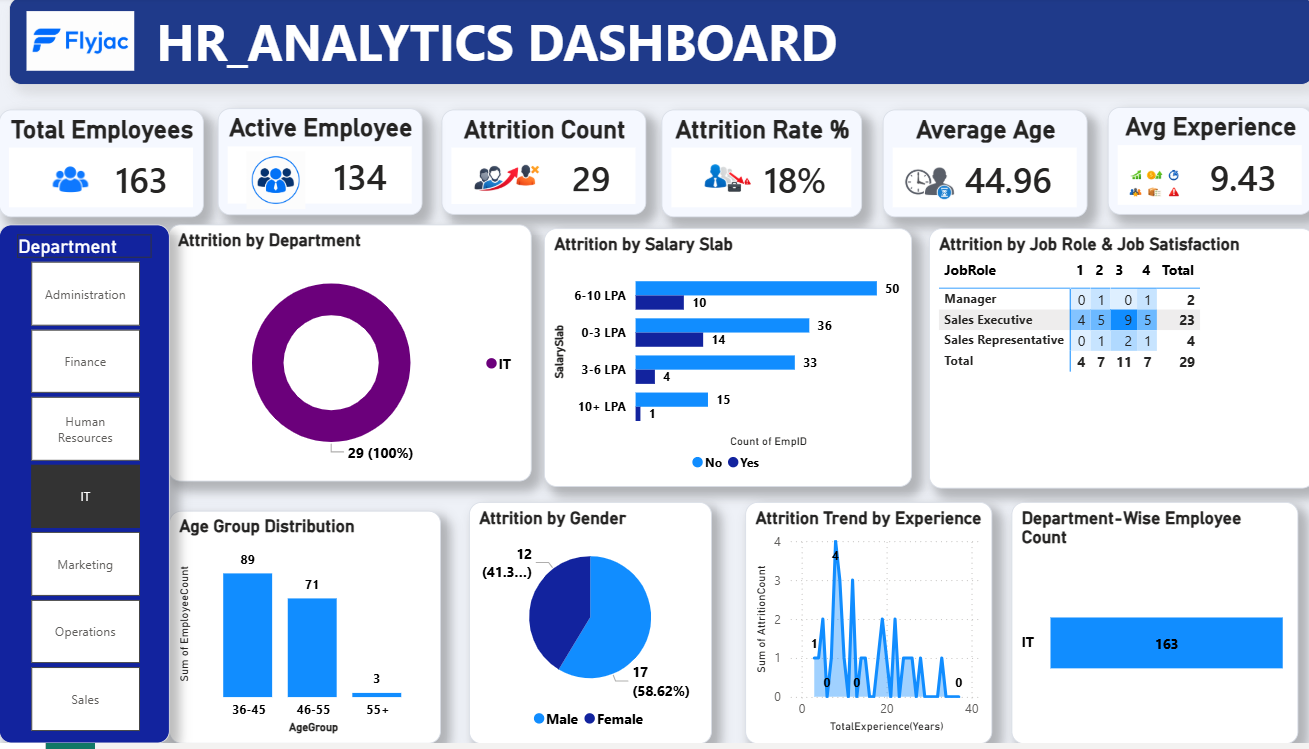

What the dashboard file says about the page in this screenshot:
{"tool":"powerbi","page":{"name":"Page 1","canvas":[1280,720],"ordinal":0},"visuals":[{"type":"textbox","box":[10,0,1259,85],"z":0},{"type":"image","box":[26.1,0,104.3,85.1],"z":1000},{"type":"cardVisual","title":"Total Employees","fields":{"Data":["CountNonNull(HR_Analytics.EmpID)"]},"box":[0,108.4,197.6,104.3],"z":2000},{"type":"cardVisual","title":"Attrition Count","fields":{"Data":["Sum(HR_Analytics.AttritionCount)"]},"box":[426.8,108.4,197.6,101.5],"z":3000},{"type":"cardVisual","title":"Attrition Rate %","fields":{"Data":["HR_Analytics.Attrition Rate %"]},"box":[639.5,108.4,193.5,104.3],"z":4000},{"type":"cardVisual","title":"Average Age","fields":{"Data":["Avg(HR_Analytics.Age)"]},"box":[853.5,108.4,197.6,104.3],"z":5000},{"type":"cardVisual","title":"Avg Experience","fields":{"Data":["Avg(HR_Analytics.YearsatCompany)"]},"box":[1070.3,105.7,197.6,104.3],"z":6000},{"type":"cardVisual","title":"Active Employee","fields":{"Data":["CountNonNull(HR_Analytics.EmployeeCount)"]},"box":[211.3,107,197.6,102.9],"z":7000},{"type":"image","box":[0,135.8,89.2,87.8],"z":8000},{"type":"image","box":[220.9,145.5,56.3,64.5],"z":9000},{"type":"image","box":[441.9,135.8,72.7,76.8],"z":10000},{"type":"image","box":[657.3,138.6,63.1,71.4],"z":11000},{"type":"image","box":[864.5,140,65.9,79.6],"z":12000},{"type":"image","box":[1082.7,145.5,65.9,68.6],"z":13000},{"type":"donutChart","title":"Attrition by Department","fields":{"Category":["HR_Analytics.Department"],"Y":["Sum(HR_Analytics.AttritionCount)"]},"box":[163.3,219.6,351.3,248.4],"z":14000},{"type":"clusteredBarChart","title":"Attrition by Salary Slab","fields":{"Category":["HR_Analytics.SalarySlab"],"Y":["CountNonNull(HR_Analytics.EmpID)"],"Series":["HR_Analytics.Attrition"]},"box":[525.6,223.7,355.4,249.7],"z":15000},{"type":"pivotTable","title":"Attrition by Job Role & Job Satisfaction","fields":{"Rows":["HR_Analytics.JobRole"],"Values":["Sum(HR_Analytics.AttritionCount)"],"Columns":["HR_Analytics.JobSatisfaction"]},"box":[897.4,223.7,371.9,251.1],"z":16000},{"type":"columnChart","title":"Age Group Distribution","fields":{"Category":["HR_Analytics.AgeGroup"],"Y":["Sum(HR_Analytics.EmployeeCount)"]},"box":[164.7,495.4,262.1,225],"z":17000},{"type":"pieChart","title":"Attrition by Gender","fields":{"Category":["HR_Analytics.Gender"],"Y":["Sum(HR_Analytics.AttritionCount)"]},"box":[454.2,487.1,234.6,233.3],"z":18000},{"type":"areaChart","title":"Attrition Trend by Experience","fields":{"Category":["HR_Analytics.TotalExperience(Years)"],"Y":["Sum(HR_Analytics.AttritionCount)"]},"box":[720.4,487.1,238.8,233.3],"z":19000},{"type":"funnel","title":"Department-Wise Employee Count","fields":{"Category":["HR_Analytics.Department"],"Y":["CountNonNull(HR_Analytics.EmpID)"]},"box":[977,487.1,277.2,233.3],"z":20000},{"type":"slicer","fields":{"Values":["HR_Analytics.Department"]},"box":[0,219.6,164.7,500.9],"z":22000}]}

Visuals, with their boxes in screenshot pixels (x1, y1, x2, y2), scaled from the page's 1280x720 canvas onto the 1309x749 screenshot:
textbox: rect(10, 0, 1298, 88)
image: rect(27, 0, 133, 89)
"Total Employees" cardVisual: rect(0, 113, 202, 221)
"Attrition Count" cardVisual: rect(436, 113, 639, 218)
"Attrition Rate %" cardVisual: rect(654, 113, 852, 221)
"Average Age" cardVisual: rect(873, 113, 1075, 221)
"Avg Experience" cardVisual: rect(1095, 110, 1297, 218)
"Active Employee" cardVisual: rect(216, 111, 418, 218)
image: rect(0, 141, 91, 233)
image: rect(226, 151, 283, 218)
image: rect(452, 141, 526, 221)
image: rect(672, 144, 737, 218)
image: rect(884, 146, 951, 228)
image: rect(1107, 151, 1175, 223)
"Attrition by Department" donutChart: rect(167, 228, 526, 487)
"Attrition by Salary Slab" clusteredBarChart: rect(538, 233, 901, 492)
"Attrition by Job Role & Job Satisfaction" pivotTable: rect(918, 233, 1298, 494)
"Age Group Distribution" columnChart: rect(168, 515, 436, 748)
"Attrition by Gender" pieChart: rect(464, 507, 704, 748)
"Attrition Trend by Experience" areaChart: rect(737, 507, 981, 748)
"Department-Wise Employee Count" funnel: rect(999, 507, 1283, 748)
slicer - HR_Analytics.Department: rect(0, 228, 168, 748)
